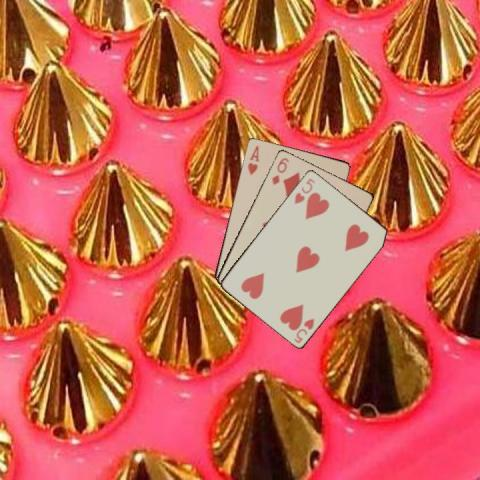5h: (290, 175, 316, 205), (291, 315, 316, 344)
6d: (268, 155, 290, 186)
Ah: (245, 143, 260, 176)
